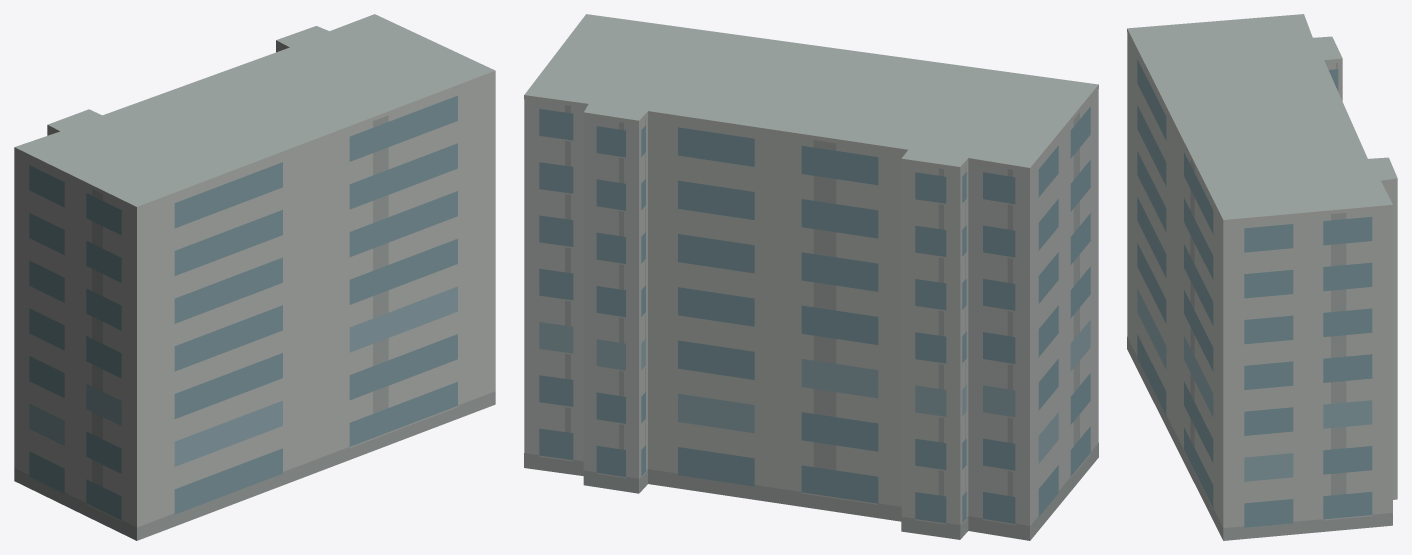
Rendered from survey-upis-32493224.glb.
3 views of the same model, side by side, from view 1: azimuth 30°, elevation 25°; view 2: azimuth 150°, elevation 25°; view 3: azimuth 270°, elevation 25° (orthographic). The views are drawn at different scales.
Visible parts, largest first — view 1: survey-upis-32493224.tmp; view 2: survey-upis-32493224.tmp; view 3: survey-upis-32493224.tmp.
Part boxes in pixels (x1=…): survey-upis-32493224.tmp: x1=14, y1=14, x2=495, y2=540; survey-upis-32493224.tmp: x1=524, y1=14, x2=1098, y2=540; survey-upis-32493224.tmp: x1=1127, y1=14, x2=1397, y2=540.
Size of the model in its own units: 28.59 by 20.75 by 15.87.
